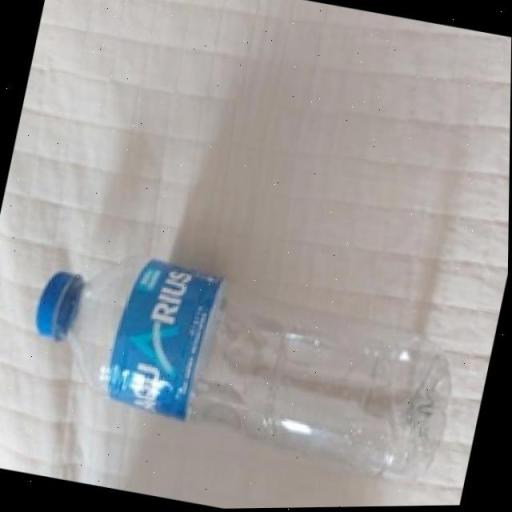plastic: (10, 242, 484, 492)
